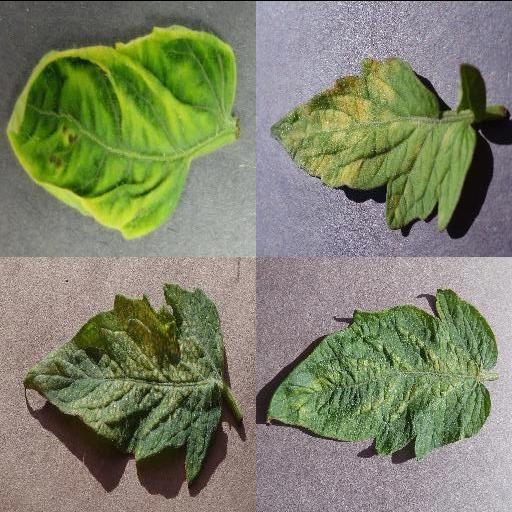Leaf Mold: (269, 56, 475, 230)
Spider Mites: (22, 282, 226, 482), (267, 287, 497, 459)
Yellow Leaf Curl Virus: (4, 22, 238, 240)
